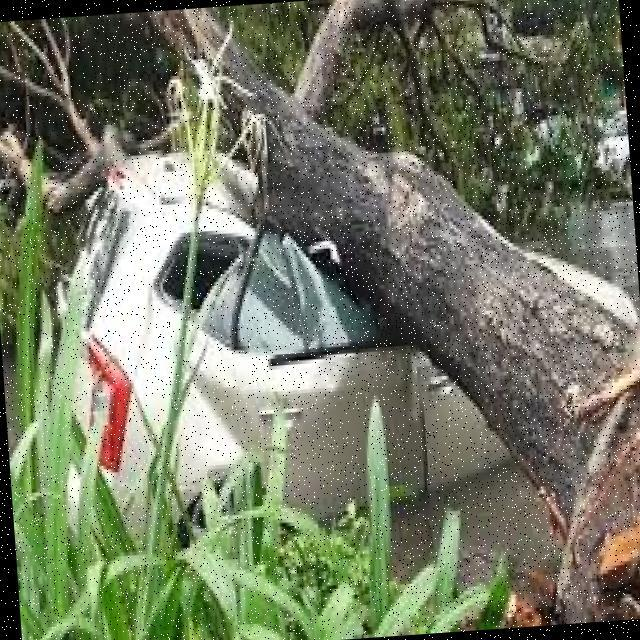fallen_object: (129, 0, 640, 504)
